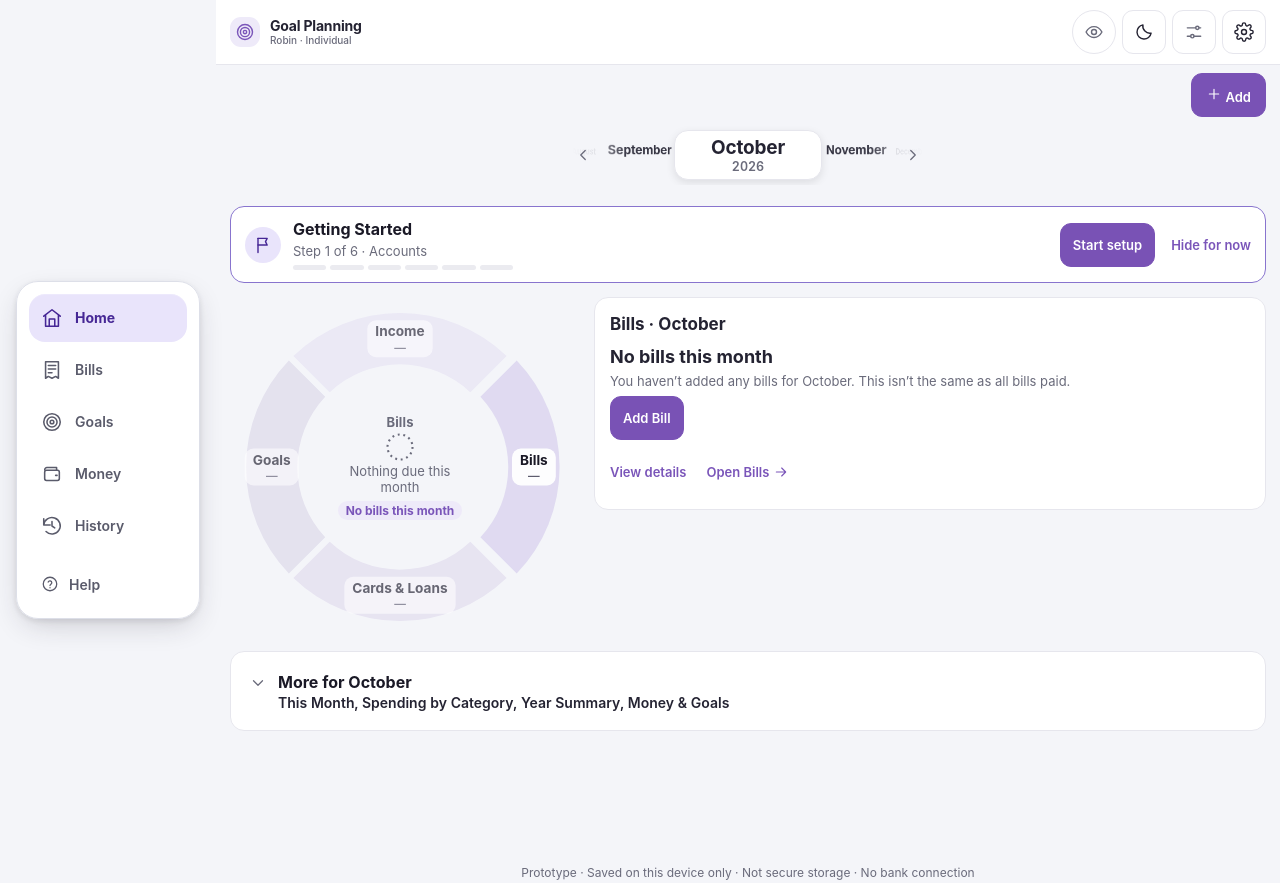
it: Leave without saving? › Copy What I Typed copies only these forms and leaves the question and the screen open
Click the button "Money" at (108, 474), box [29,450,187,498]
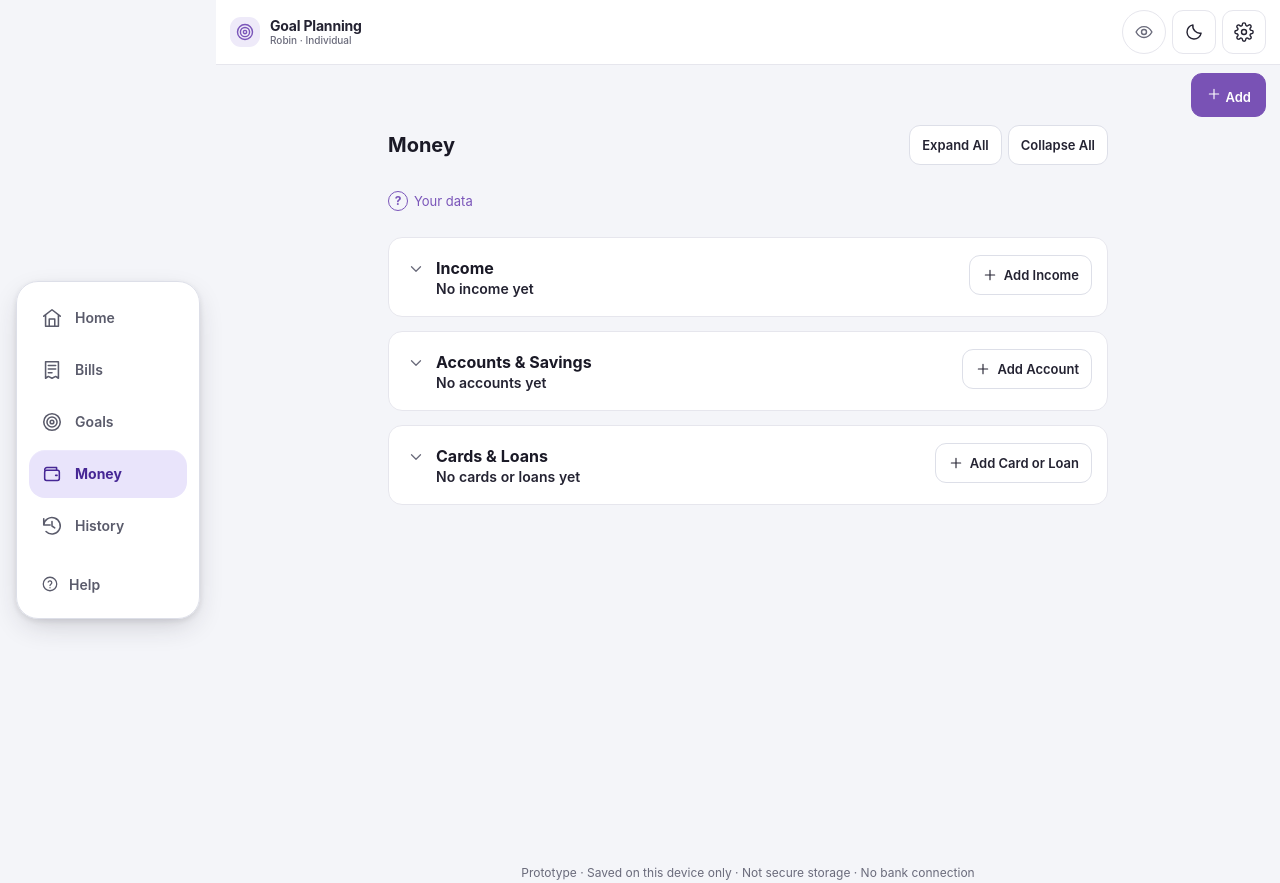
Click the button "Accounts & Savings No accounts yet" at (514, 362), box [404,347,950,395]
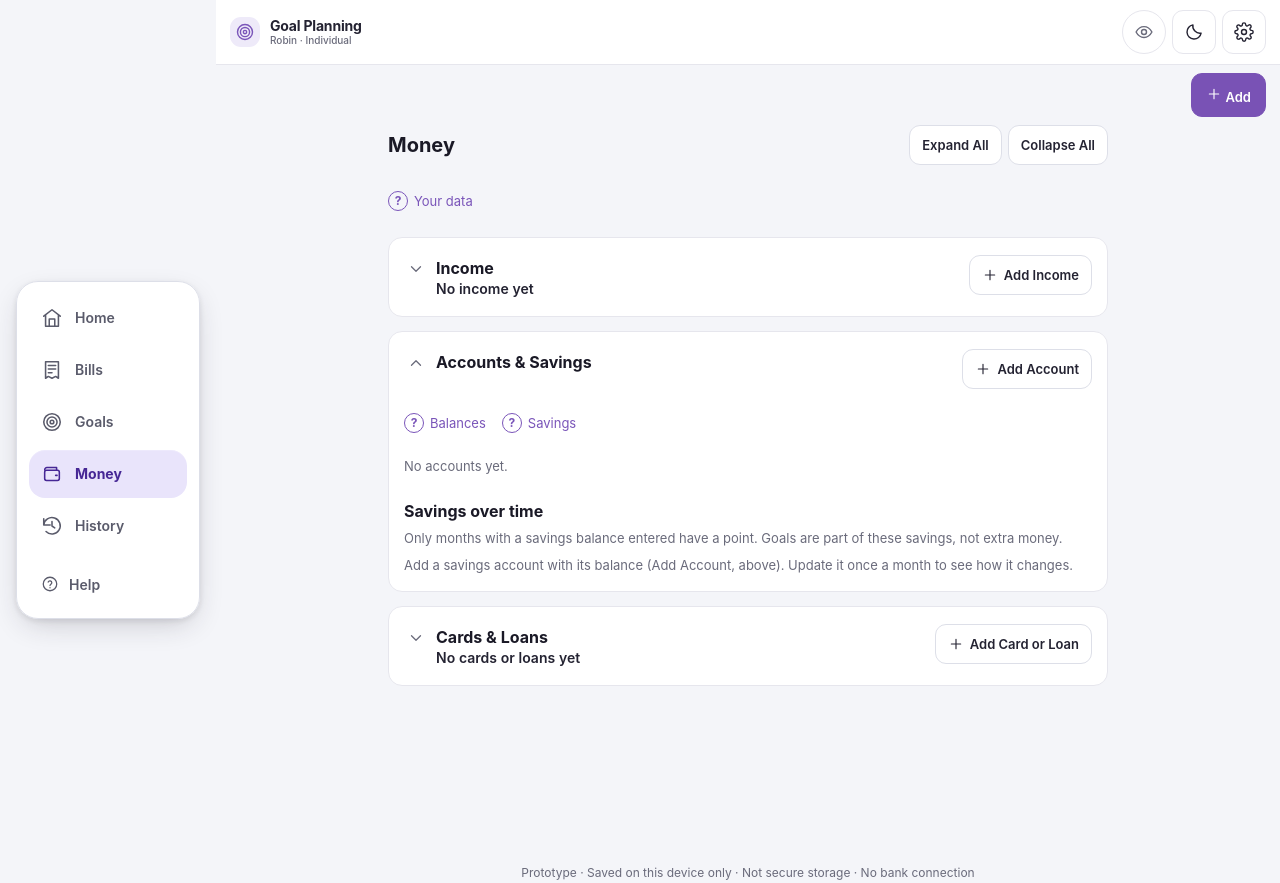
Click the button "Add Account" at (1027, 369), box [962,349,1092,389]
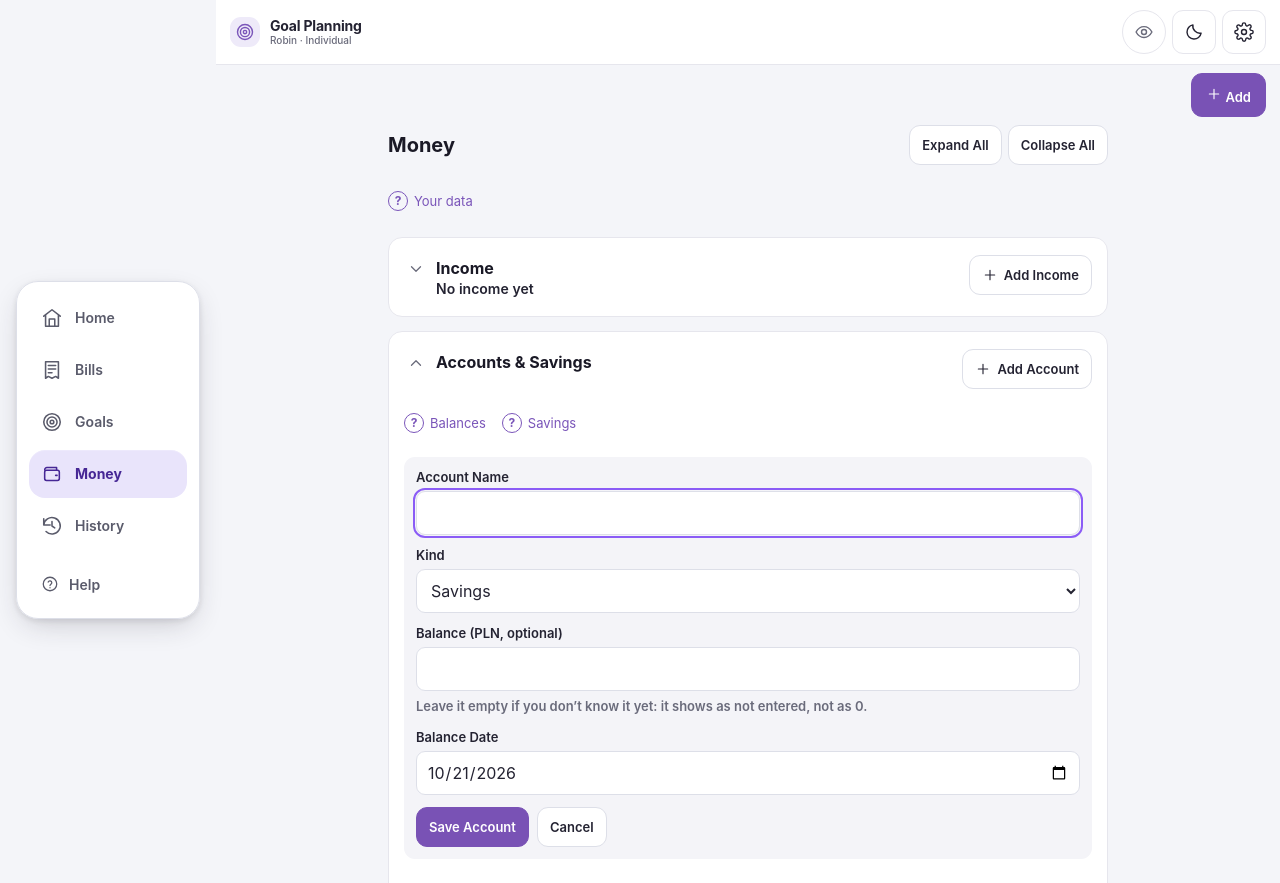
Type "Holiday pot" into the field labelled "Account Name" at (748, 513), box [416,491,1080,535]
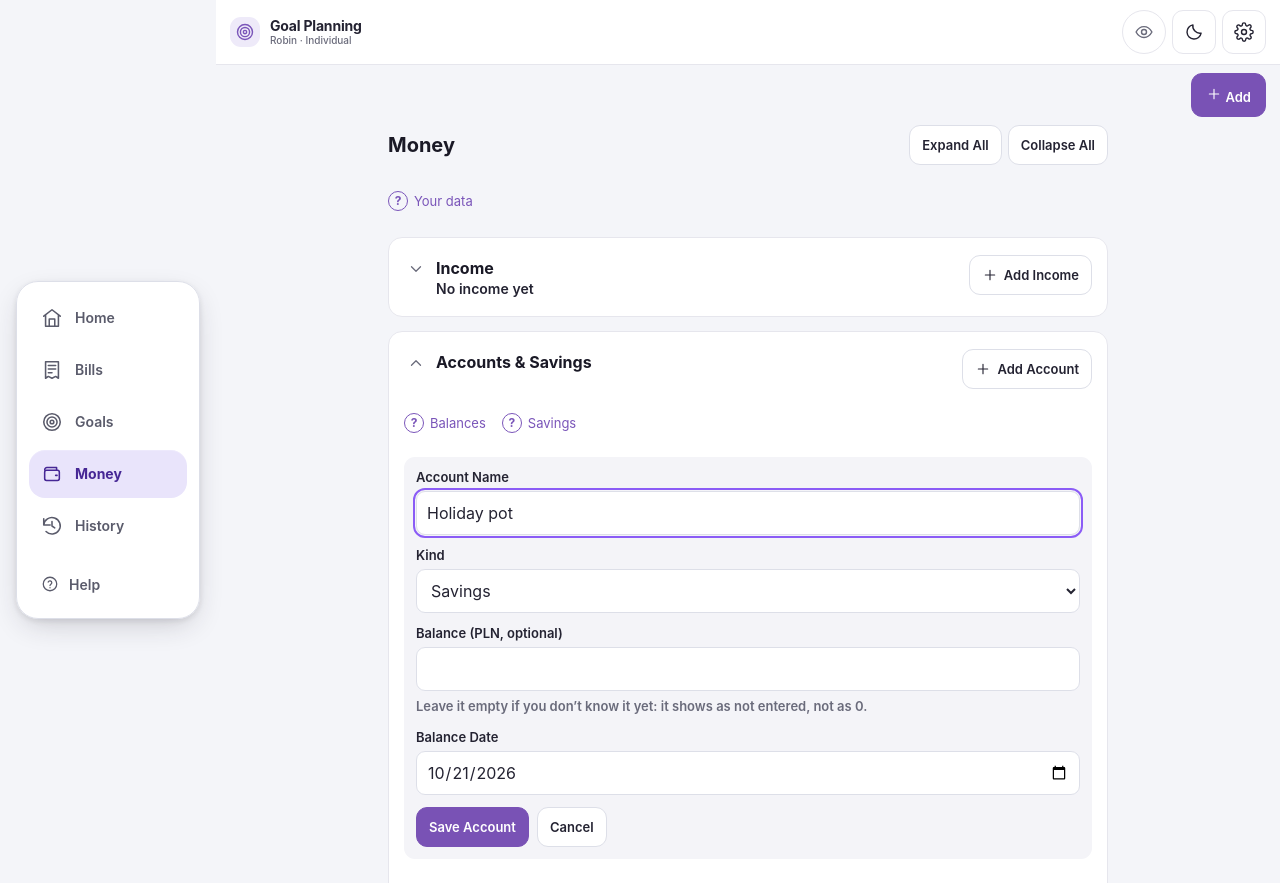
Click the button "Home" at (108, 318), box [29,294,187,342]
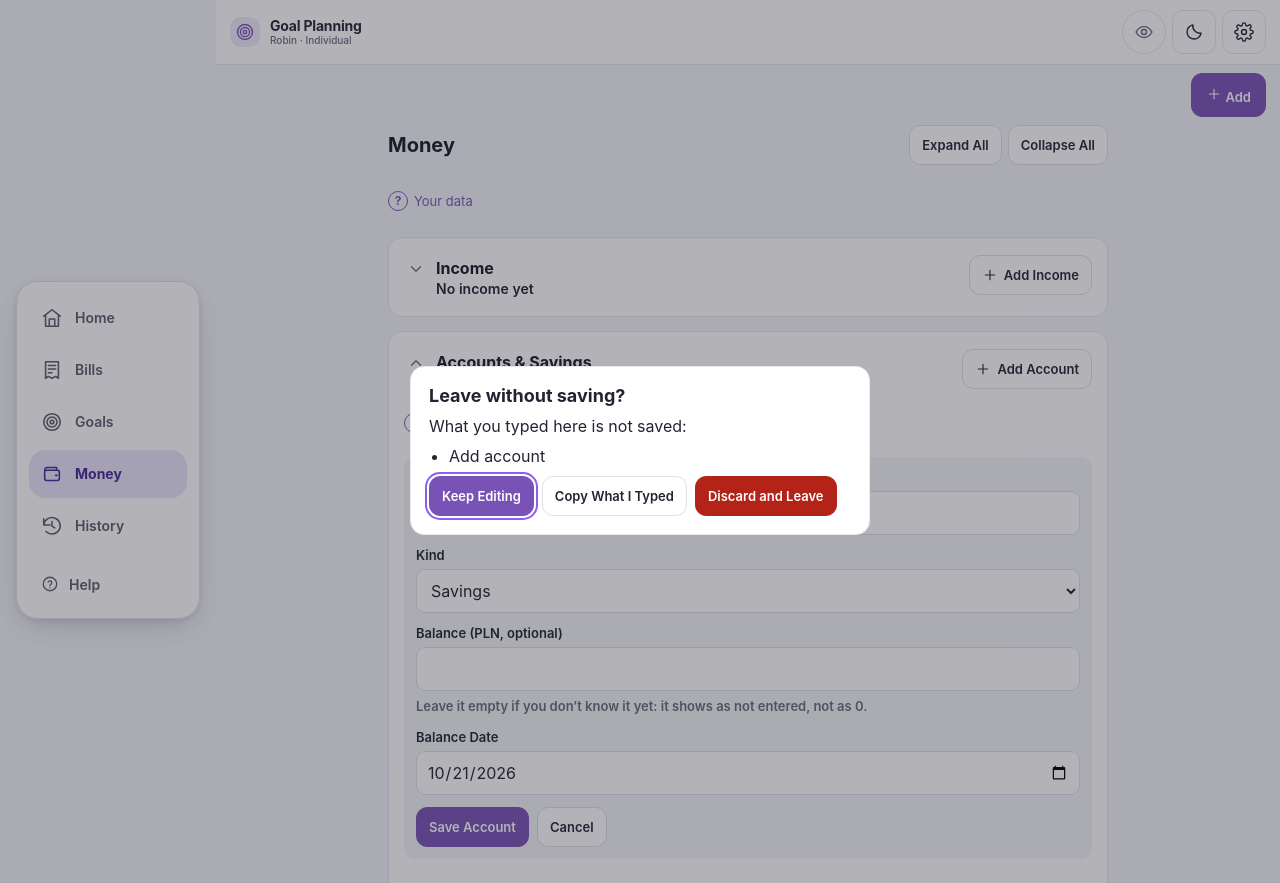
Click the button "Copy What I Typed" at (614, 496), box [542,476,687,516]
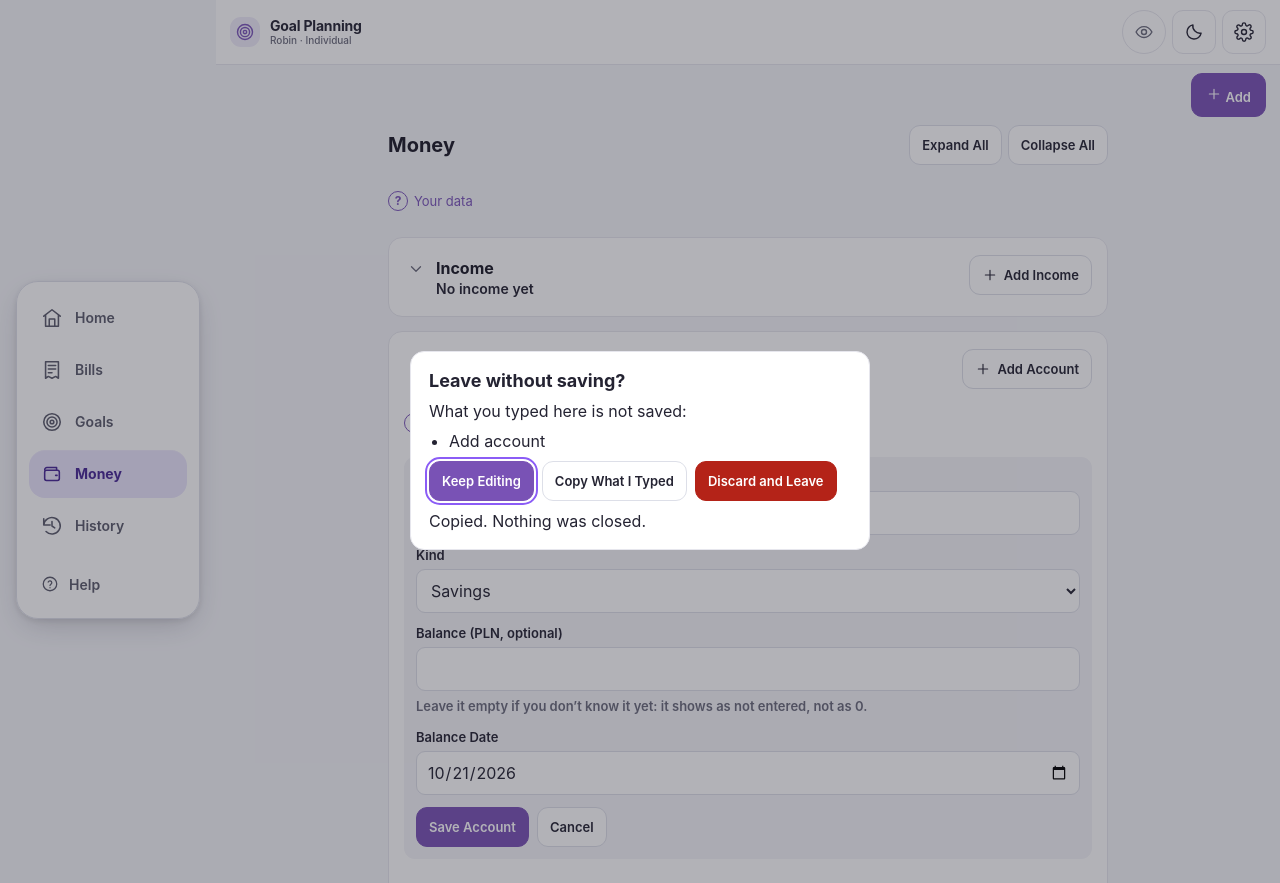
expect the dialog "Leave without saving?" is shown: met, box [410,350,870,550]
expect the dialog "Leave without saving?" shows "Copied. Nothing was closed.": met, box [429,510,646,530]
